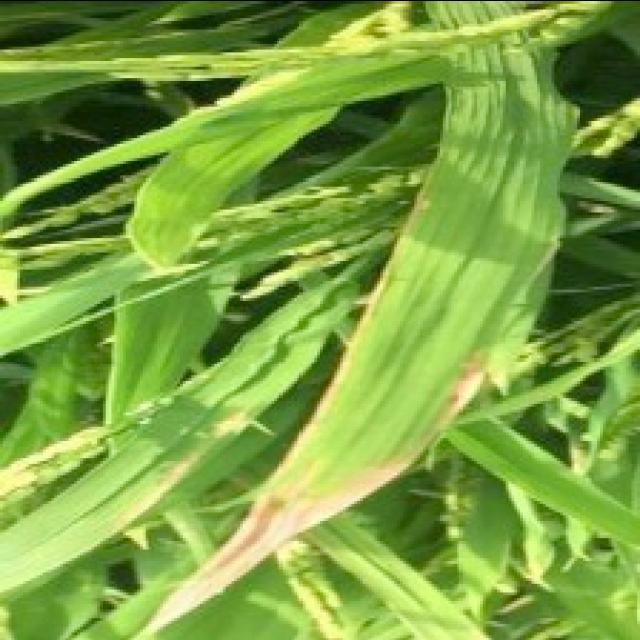Unhealthy: (129, 184, 426, 640), (326, 9, 560, 55), (153, 71, 300, 135), (107, 455, 207, 535), (421, 350, 486, 446), (329, 6, 388, 41), (213, 411, 250, 439)
